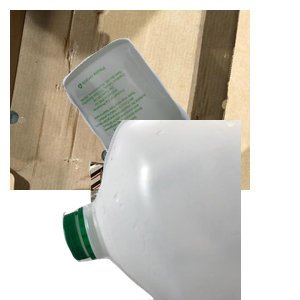cardboard: (10, 10, 250, 190)
glass: (60, 36, 300, 216)
plastic: (60, 120, 300, 300)
trash: (86, 158, 242, 300)
